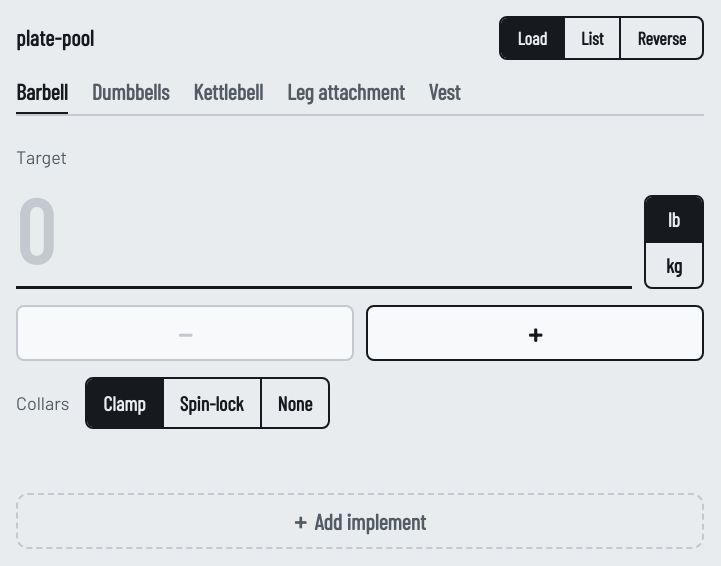
it: several implements: cards (spec 8.3) › closes the list of implements to add on Cancel
Click the button "+ Add implement". click: (360, 521)
box: top-left (16, 493), bottom-right (704, 549)
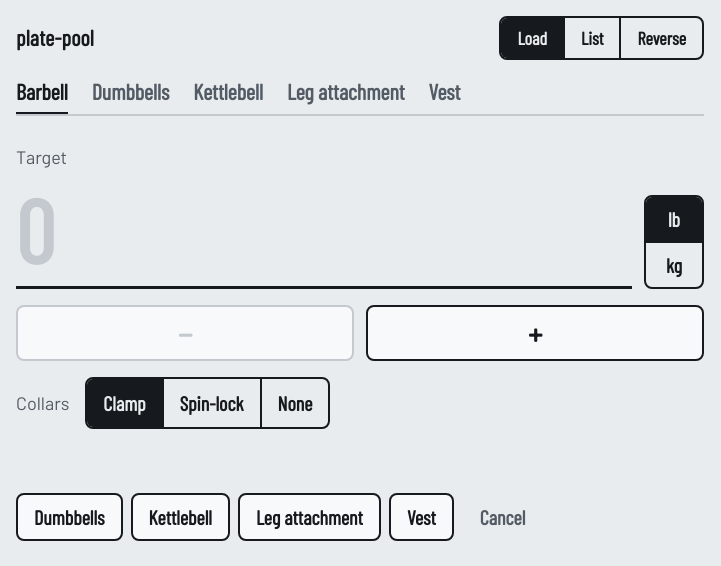
Click the button "Cancel". click: (503, 517)
box: top-left (462, 493), bottom-right (543, 541)
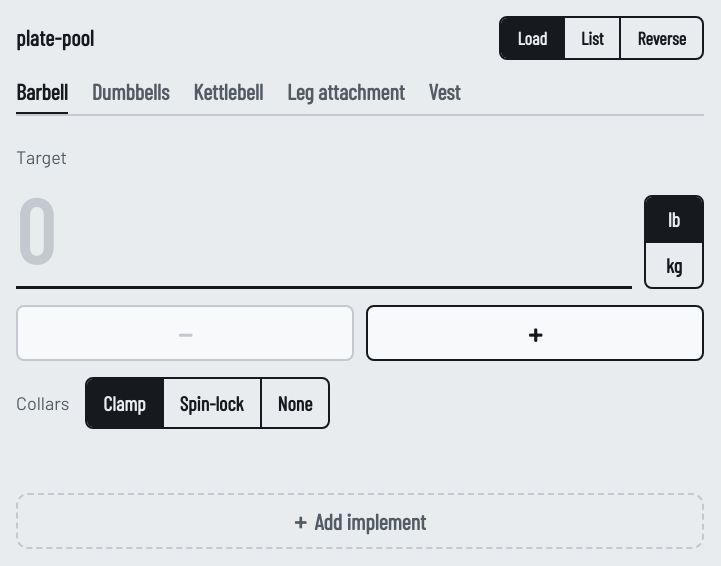
Check: the number of elements "Target lb kg − + Collars Clamp Spin-lock None" is 1, box top-left (16, 144), bottom-right (704, 461)
Check: the button "+ Add implement" is shown, box top-left (16, 493), bottom-right (704, 549)
